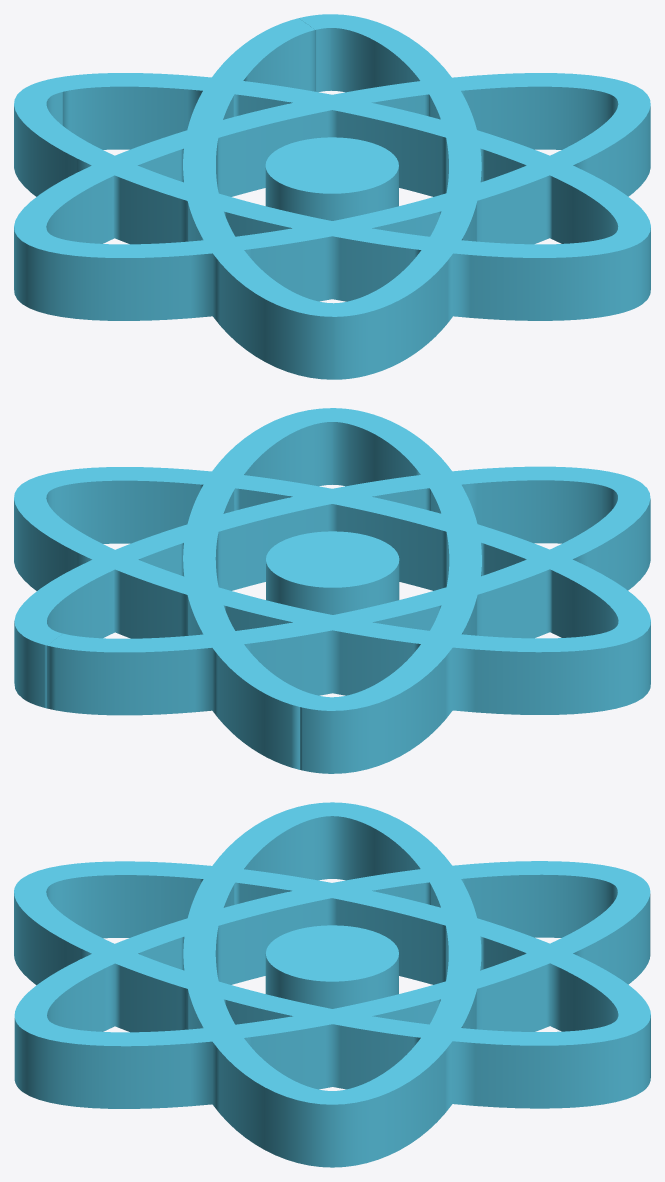
File: react.glb
3 views of the same model, one above another, from view 1: azimuth 30°, elevation 25°; view 2: azimuth 150°, elevation 25°; view 3: azimuth 270°, elevation 25° (orthographic).
Visible parts, largest first — view 1: Curve, Curve.004; view 2: Curve, Curve.004; view 3: Curve, Curve.004.
Boxes of the visible parts, x1,y1,x2,y2 form: Curve: (14,14,650,379); Curve.004: (265,137,398,220); Curve: (14,408,650,773); Curve.004: (266,531,399,614); Curve: (14,802,650,1167); Curve.004: (265,925,398,1008).
Bounding box in the file's own units: 0.6192 × 0.06 × 0.5513.
